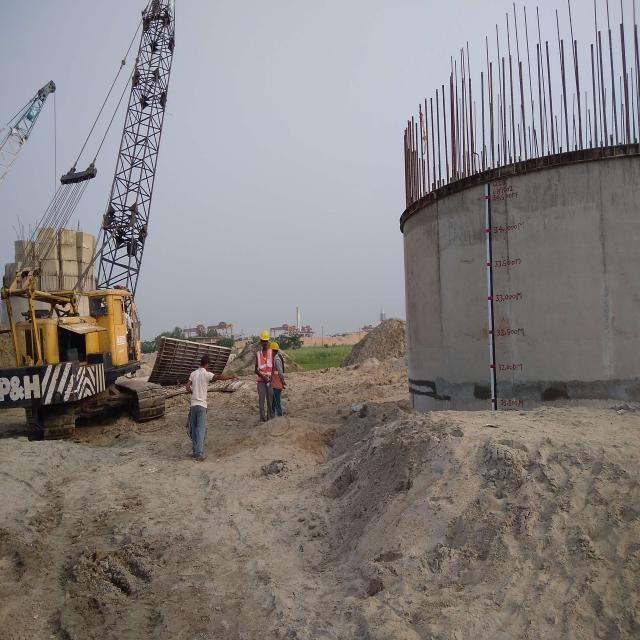Boots: (190, 448, 208, 461)
Hardhat: (259, 331, 270, 342), (268, 342, 280, 350)
Machinary: (2, 2, 173, 437)
No-Hardhat: (197, 355, 212, 370)
No-safetyvest: (186, 367, 212, 411)
Person: (184, 355, 221, 466), (258, 330, 272, 424), (269, 343, 285, 415)
Safetyvest: (255, 351, 272, 380), (272, 355, 285, 389)
